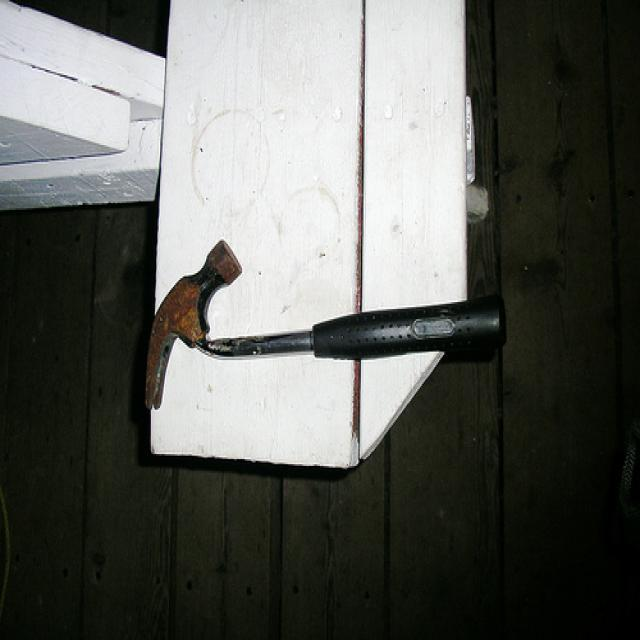hammer: (128, 235, 513, 410)
